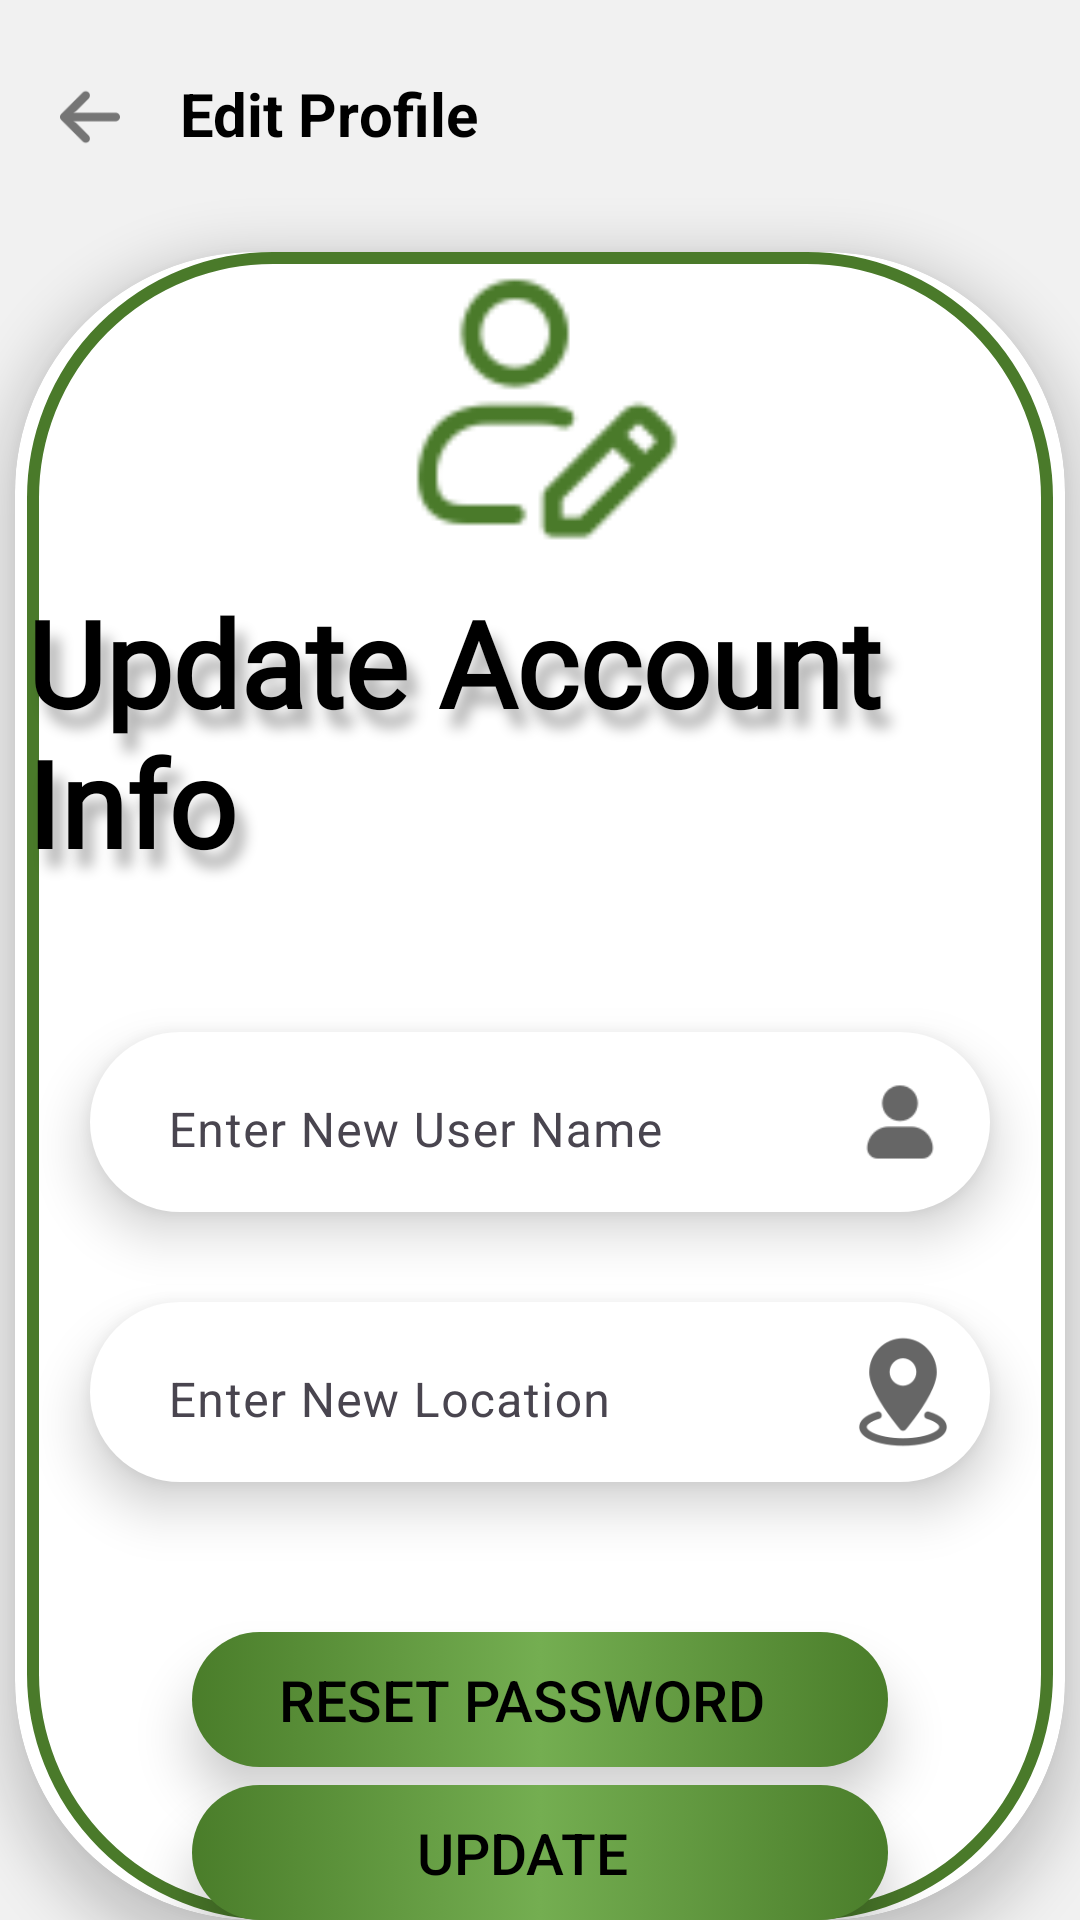

Point at icon controls on the screen. Image size 1080×1920, points as point (x, y).
back arrow: point (90, 117)
edit account: point (546, 408)
